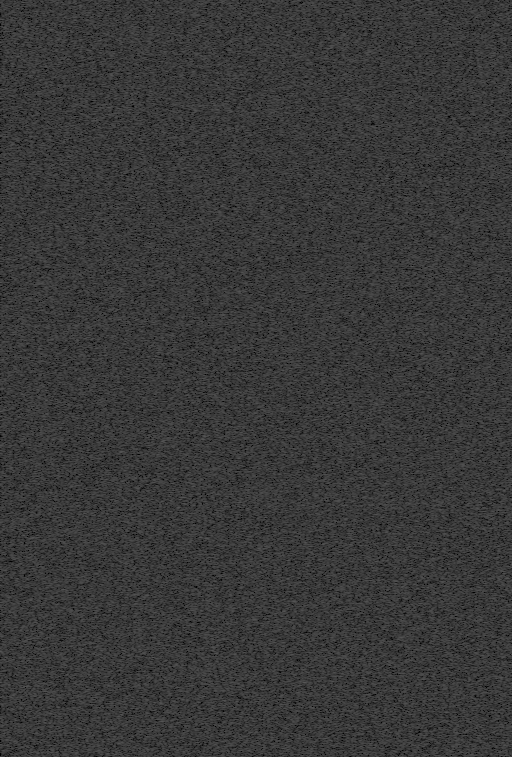wv_am: (351, 0, 356, 757)
wv_cw: (292, 0, 298, 757), (427, 0, 433, 757), (296, 0, 301, 636), (296, 662, 301, 757)
wv_lsb: (346, 563, 351, 631), (346, 503, 350, 534), (347, 732, 350, 754), (347, 411, 350, 428), (346, 539, 351, 549), (346, 478, 350, 486), (347, 550, 350, 560), (347, 722, 350, 731), (347, 712, 350, 721), (347, 491, 350, 499), (346, 469, 350, 474), (347, 442, 350, 448), (347, 339, 350, 345), (346, 632, 351, 635), (347, 452, 350, 457), (347, 328, 350, 333), (347, 41, 350, 46), (347, 707, 350, 711), (347, 314, 350, 318), (347, 293, 350, 297), (347, 256, 350, 260), (347, 245, 350, 249), (347, 232, 350, 236), (347, 215, 350, 219), (347, 202, 350, 206), (347, 169, 350, 173), (347, 465, 350, 468), (347, 434, 350, 437), (347, 429, 350, 432), (347, 306, 350, 309), (347, 302, 350, 305), (347, 281, 350, 284), (347, 276, 350, 279), (347, 240, 350, 243), (347, 227, 350, 230), (347, 220, 350, 223), (347, 190, 350, 193), (347, 181, 350, 184), (347, 70, 350, 73), (347, 59, 350, 62), (347, 53, 350, 56), (347, 36, 350, 39)
wv_usb: (388, 276, 394, 495), (388, 553, 394, 709), (388, 159, 394, 275), (388, 55, 394, 158), (388, 496, 394, 552), (388, 14, 394, 54), (43, 643, 48, 667), (388, 739, 394, 757), (43, 210, 48, 224), (43, 360, 47, 375), (44, 22, 47, 40), (388, 4, 394, 13), (43, 229, 47, 240), (44, 71, 47, 81), (44, 681, 47, 690), (44, 449, 47, 458), (44, 376, 47, 385), (44, 61, 47, 69), (44, 725, 47, 732), (44, 459, 47, 466), (44, 102, 47, 109), (44, 91, 47, 98), (44, 437, 47, 443), (44, 255, 47, 261), (44, 180, 47, 186), (44, 161, 47, 167), (44, 131, 47, 137), (44, 122, 47, 128), (44, 83, 47, 89), (43, 668, 47, 672), (44, 714, 47, 719), (44, 632, 47, 637), (44, 431, 47, 436), (44, 410, 47, 415), (44, 396, 47, 401), (44, 142, 47, 147), (44, 112, 47, 117), (44, 51, 47, 56), (44, 13, 47, 18), (44, 736, 47, 741), (44, 697, 47, 701), (43, 677, 47, 680), (44, 416, 47, 420), (44, 250, 47, 254), (43, 245, 47, 248), (43, 225, 47, 228), (44, 706, 47, 709), (44, 702, 47, 705), (44, 421, 47, 424), (44, 392, 47, 395), (44, 388, 47, 391), (44, 745, 47, 748)
